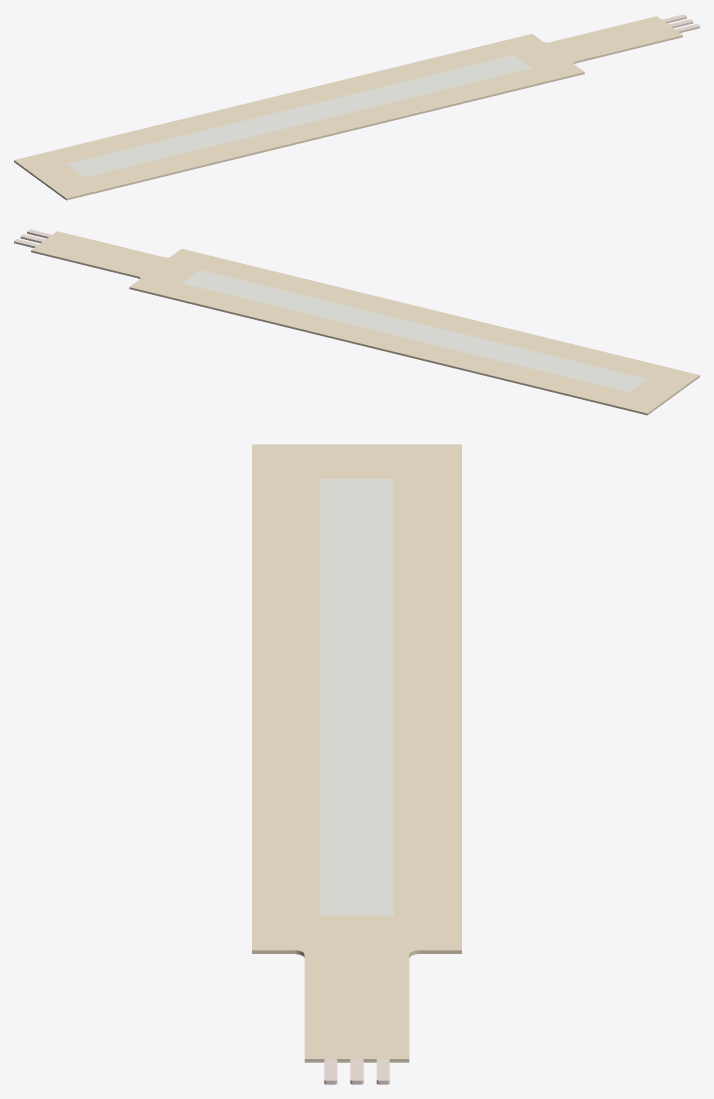
File: soft_potentiometer.fbx
The picture shows the model from 3 angles, top to bottom: view 1: azimuth 30°, elevation 25°; view 2: azimuth 150°, elevation 25°; view 3: azimuth 270°, elevation 25°; orthographic projection. The views are drawn at different scales.
Parts seen in each view (by area): view 1: imagetostl_mesh2, imagetostl_mesh0, imagetostl_mesh1; view 2: imagetostl_mesh2, imagetostl_mesh0, imagetostl_mesh1; view 3: imagetostl_mesh2, imagetostl_mesh0, imagetostl_mesh1.
Boxes of the visible parts, left/top/right/bottom form: imagetostl_mesh2: left=14, top=16, right=682, bottom=200; imagetostl_mesh0: left=67, top=55, right=531, bottom=177; imagetostl_mesh1: left=662, top=14, right=699, bottom=32; imagetostl_mesh2: left=31, top=231, right=699, bottom=415; imagetostl_mesh0: left=182, top=270, right=646, bottom=392; imagetostl_mesh1: left=14, top=229, right=51, bottom=247; imagetostl_mesh2: left=252, top=444, right=461, bottom=1062; imagetostl_mesh0: left=320, top=479, right=393, bottom=915; imagetostl_mesh1: left=324, top=1059, right=389, bottom=1084.
Bounding box in the file's own units: 14575 × 41 × 2032.
